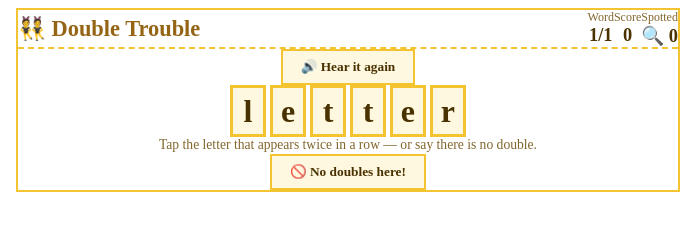
Test: Double Trouble › scores a tap on either half of the doubled pair
// "letter" doubles its t at positions 3 and 4 — tap the second half.
What coordinates should you click on to do the following:
click the button named "letter 4: t"
I would click on:
 (368, 111)
Its box is [350, 85, 386, 137].
Wait 2000 ms
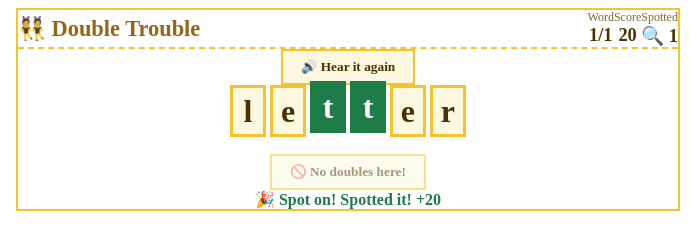
Check: the text "🎉 Spot on! Spotted it! +20" is shown, box [255, 191, 441, 208]
